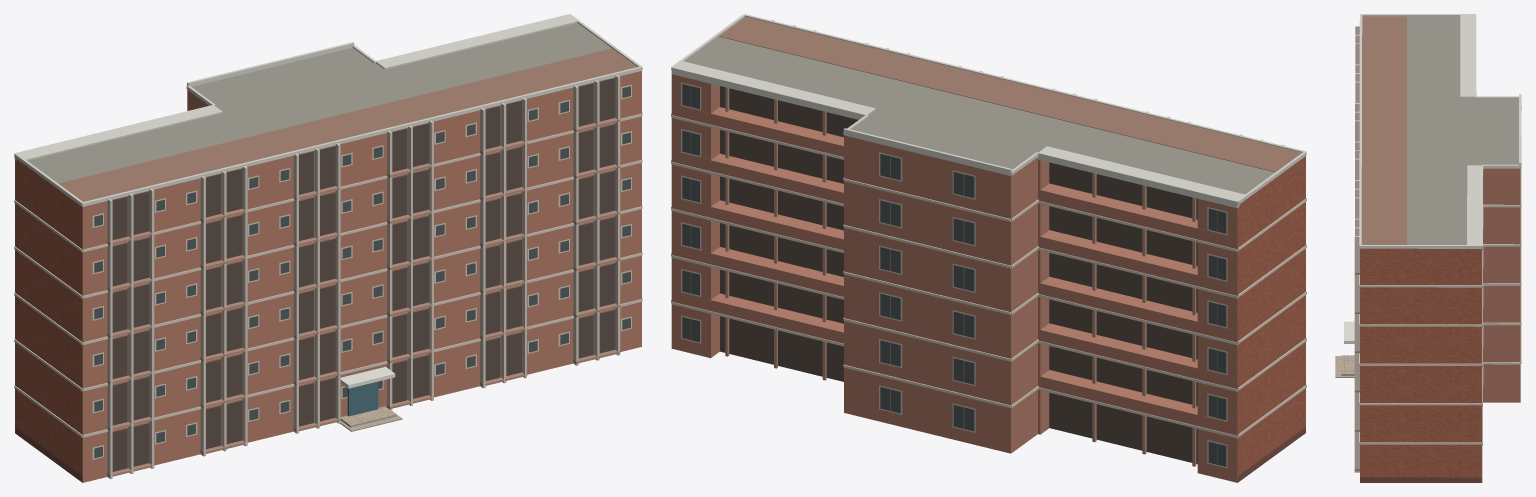
Rendered from chunk-dorm-way-759140881.glb.
3 views of the same model, side by side, from view 1: azimuth 30°, elevation 25°; view 2: azimuth 150°, elevation 25°; view 3: azimuth 270°, elevation 25° (orthographic). The views are drawn at different scales.
Visible parts, largest first — view 1: chunk-dorm-way-759140881; view 2: chunk-dorm-way-759140881; view 3: chunk-dorm-way-759140881.
Part boxes in pixels (x1,y1,x2,y2): chunk-dorm-way-759140881: [14, 14, 642, 482]; chunk-dorm-way-759140881: [671, 14, 1306, 482]; chunk-dorm-way-759140881: [1335, 14, 1521, 482].
Bounding box in the file's own units: 41.78 × 20.11 × 14.17.
14 materials, 2 textured.
